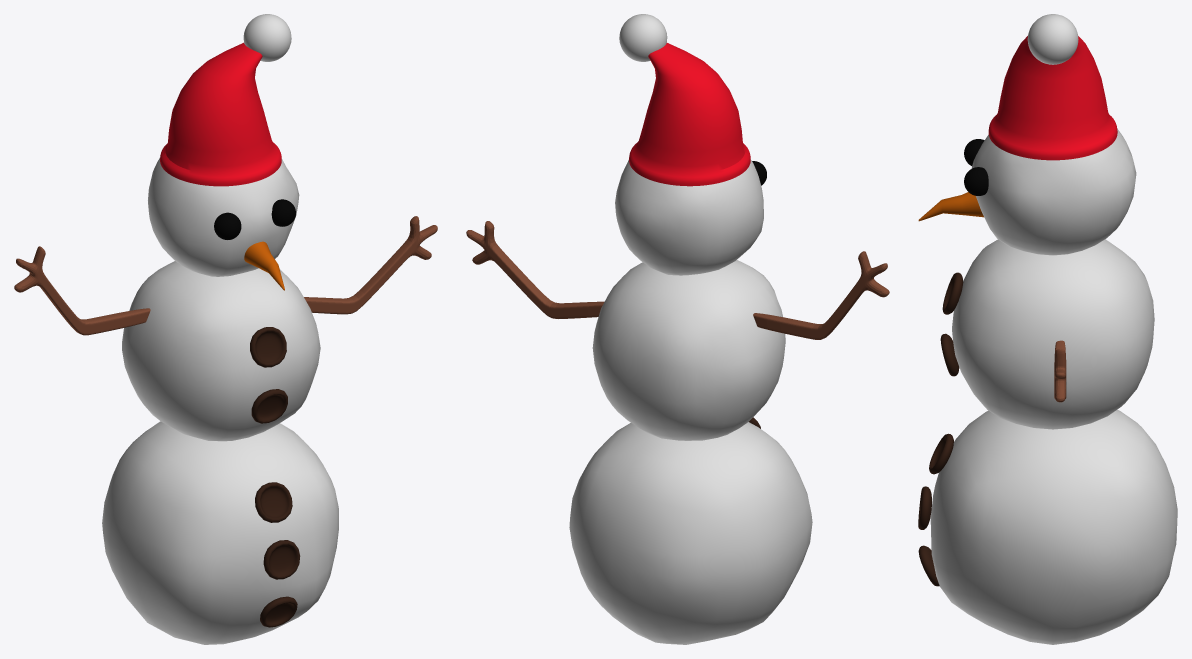
Rendered from snowman.fbx.
3 renders of one model, left to right at view 1: azimuth 30°, elevation 25°; view 2: azimuth 150°, elevation 25°; view 3: azimuth 270°, elevation 25°, orthographic. The views are drawn at different scales.
Visible parts, largest first — view 1: Cube, Circle, Plane, Sphere.002, Cube.005, Cube.001, Cube.004, Cube.002, Circle.001, Cube.003, Sphere; view 2: Cube, Circle, Plane, Sphere.002; view 3: Cube, Circle, Sphere.002, Circle.001, Plane, Cube.005, Sphere.001, Cube.001, Cube.002, Cube.004, Cube.003.
Part boxes in pixels (<box>): Cube: <box>102,157,338,644</box>; Circle: <box>160,42,281,186</box>; Plane: <box>14,216,437,335</box>; Sphere.002: <box>243,14,291,61</box>; Cube.005: <box>255,482,292,522</box>; Cube.001: <box>250,327,286,367</box>; Cube.004: <box>263,540,300,579</box>; Cube.002: <box>251,389,287,423</box>; Circle.001: <box>244,241,284,290</box>; Cube.003: <box>260,596,297,627</box>; Sphere: <box>214,212,241,239</box>; Cube: <box>569,159,812,644</box>; Circle: <box>629,43,750,186</box>; Plane: <box>466,221,889,339</box>; Sphere.002: <box>619,14,667,61</box>; Cube: <box>930,129,1177,644</box>; Circle: <box>988,36,1117,160</box>; Sphere.002: <box>1027,14,1078,64</box>; Circle.001: <box>918,192,983,221</box>; Plane: <box>1054,340,1066,402</box>; Cube.005: <box>929,433,953,474</box>; Sphere.001: <box>964,167,988,195</box>; Cube.001: <box>942,272,963,314</box>; Cube.002: <box>940,333,959,376</box>; Cube.004: <box>918,486,931,529</box>; Cube.003: <box>918,545,939,586</box>.
Size of the model in its own units: 511 by 698 by 257.
